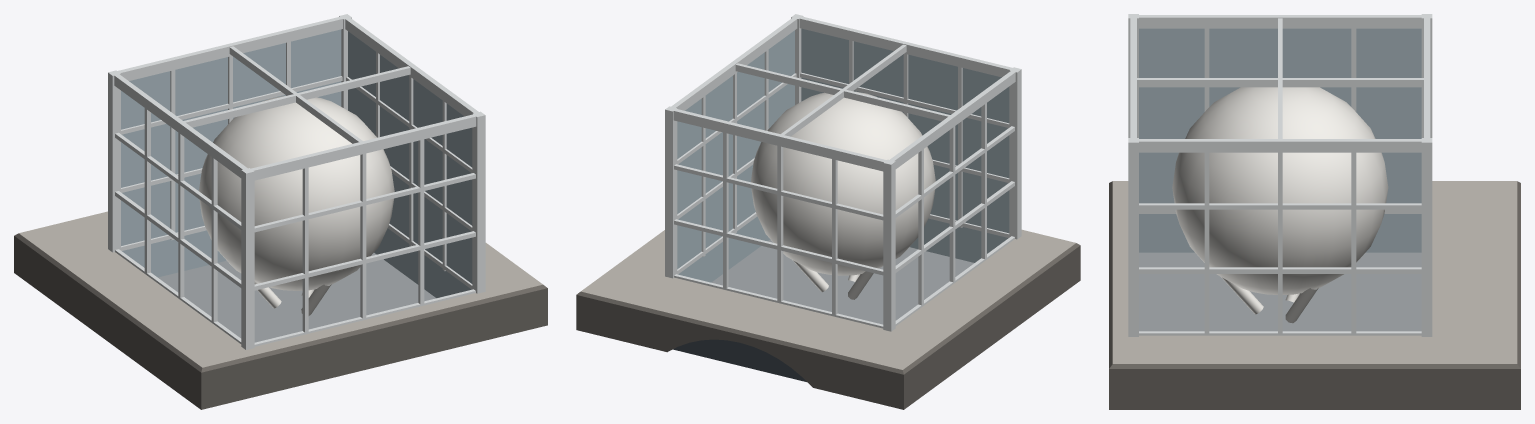
Rendered from rose-center.glb.
The picture shows the model from 3 angles, left to right: view 1: azimuth 30°, elevation 25°; view 2: azimuth 150°, elevation 25°; view 3: azimuth 270°, elevation 25°; orthographic projection. The views are drawn at different scales.
Parts seen in each view (by area): view 1: Rose Center for Earth and Space; view 2: Rose Center for Earth and Space; view 3: Rose Center for Earth and Space.
Boxes of the visible parts, <box> form: Rose Center for Earth and Space: <box>14,14,547,409</box>; Rose Center for Earth and Space: <box>576,14,1080,409</box>; Rose Center for Earth and Space: <box>1109,14,1520,409</box>.
Bounding box in the file's own units: 54 × 32.3 × 50.5.
